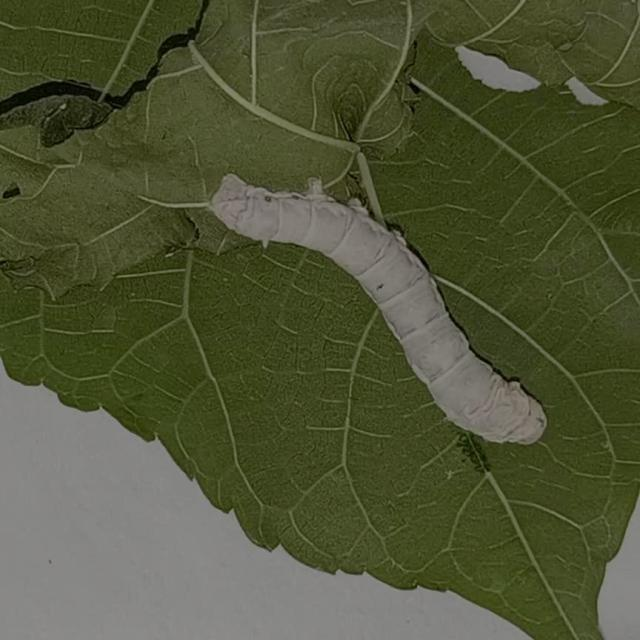Healthy: (157, 135, 570, 508)
